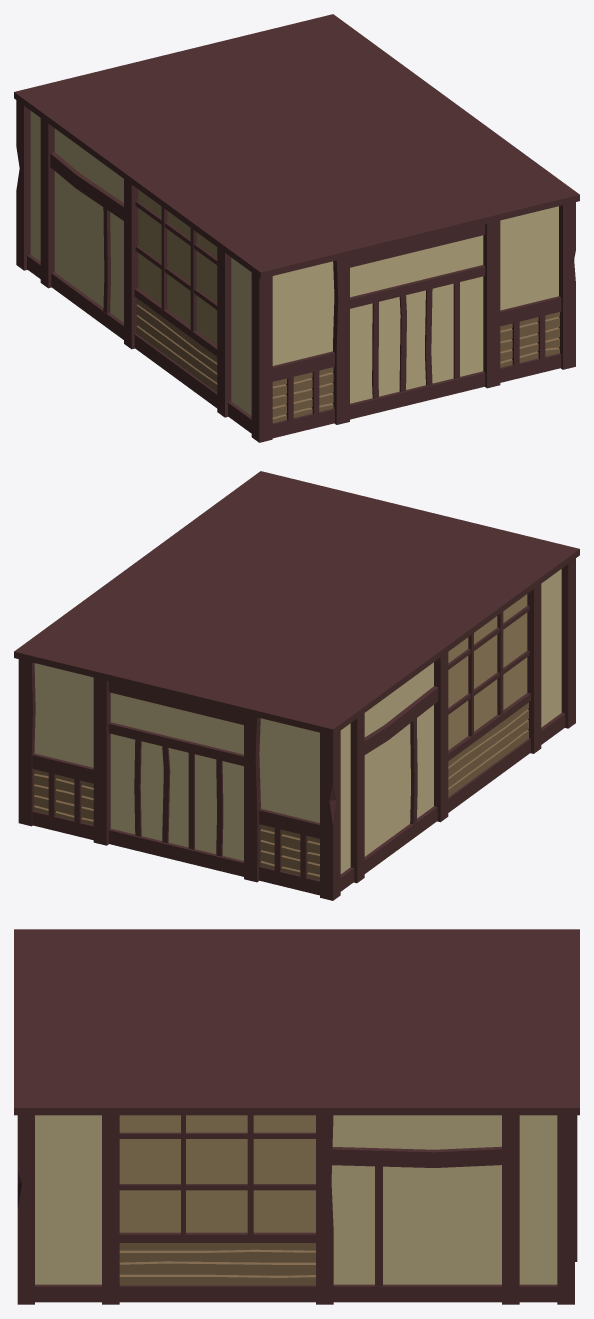
File: SM_Bld_House_Base_01.fbx
3 views of the same model, one above another, from view 1: azimuth 30°, elevation 25°; view 2: azimuth 150°, elevation 25°; view 3: azimuth 270°, elevation 25° (orthographic). The views are drawn at different scales.
Visible parts, largest first — view 1: SM_Bld_House_Base_01; view 2: SM_Bld_House_Base_01; view 3: SM_Bld_House_Base_01.
Part boxes in pixels (x1=…): SM_Bld_House_Base_01: x1=14, y1=14, x2=579, y2=442; SM_Bld_House_Base_01: x1=14, y1=471, x2=579, y2=900; SM_Bld_House_Base_01: x1=14, y1=929, x2=579, y2=1304.
Bounding box in the file's own units: 4.41 × 2.28 × 5.9.
